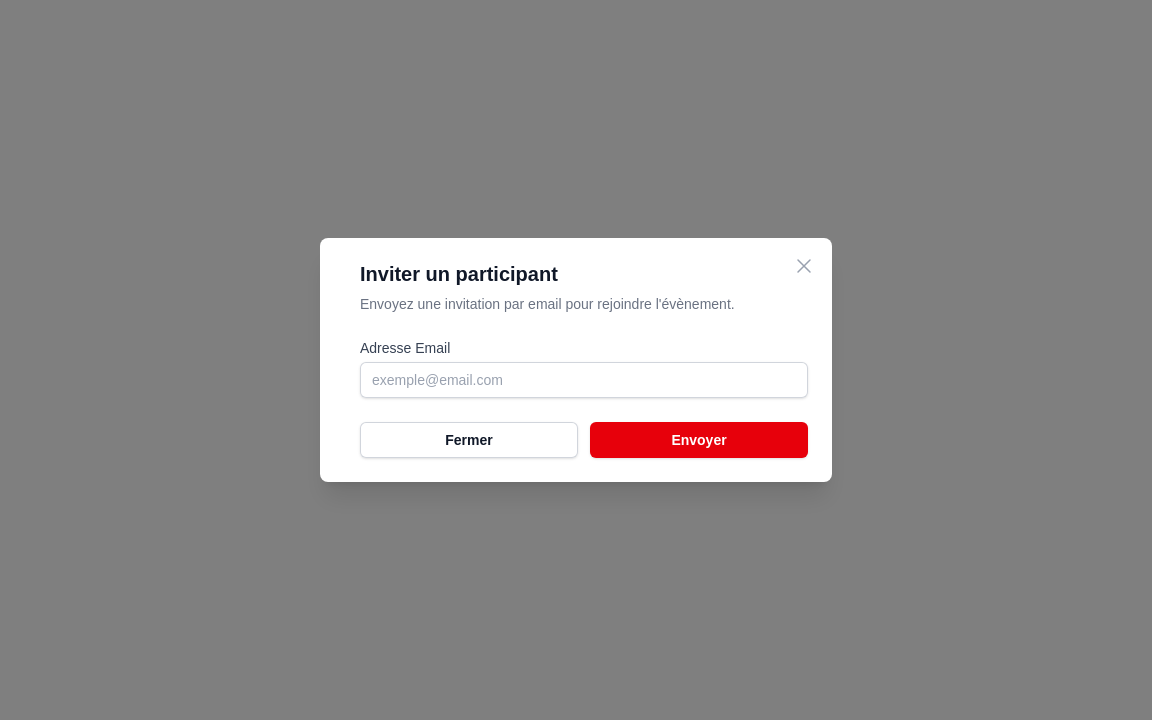
Test: InviteDialog › shows API error message when invite request fails
The width and height of the screenshot is (1152, 720).
Type "bad@example.com" into the field labelled "Adresse Email" at (584, 380), box 360,362 -> 808,398
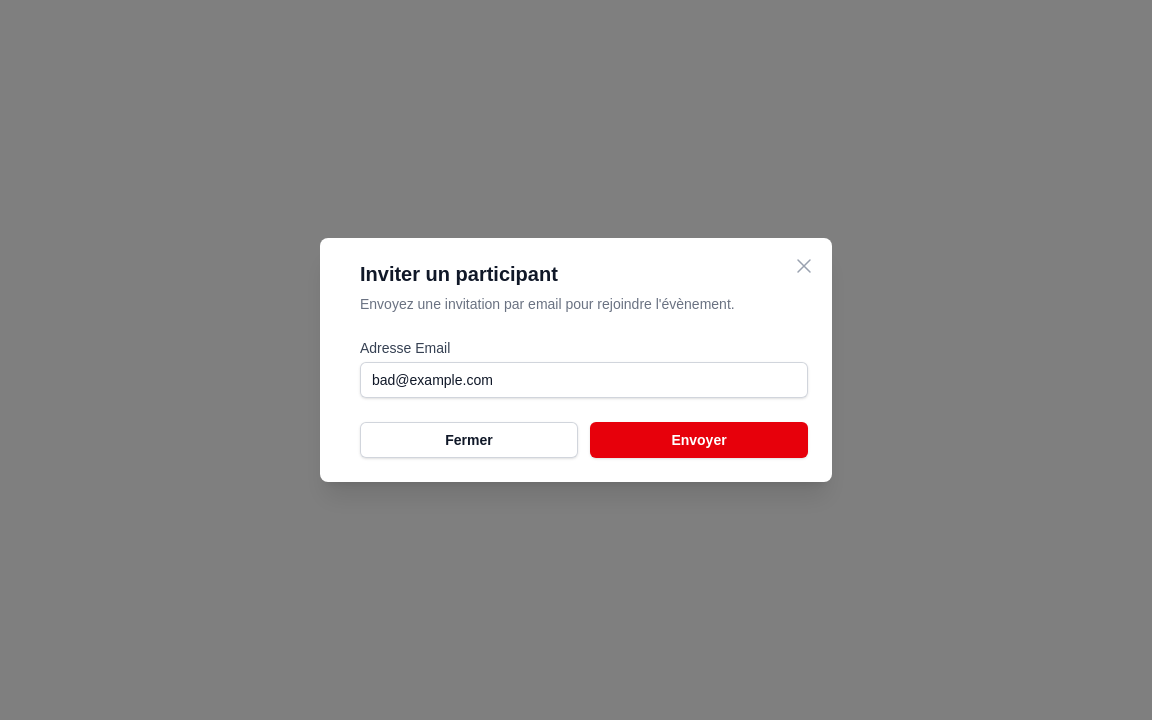
Click the button "Envoyer" at (699, 440), box 590,422 -> 808,458
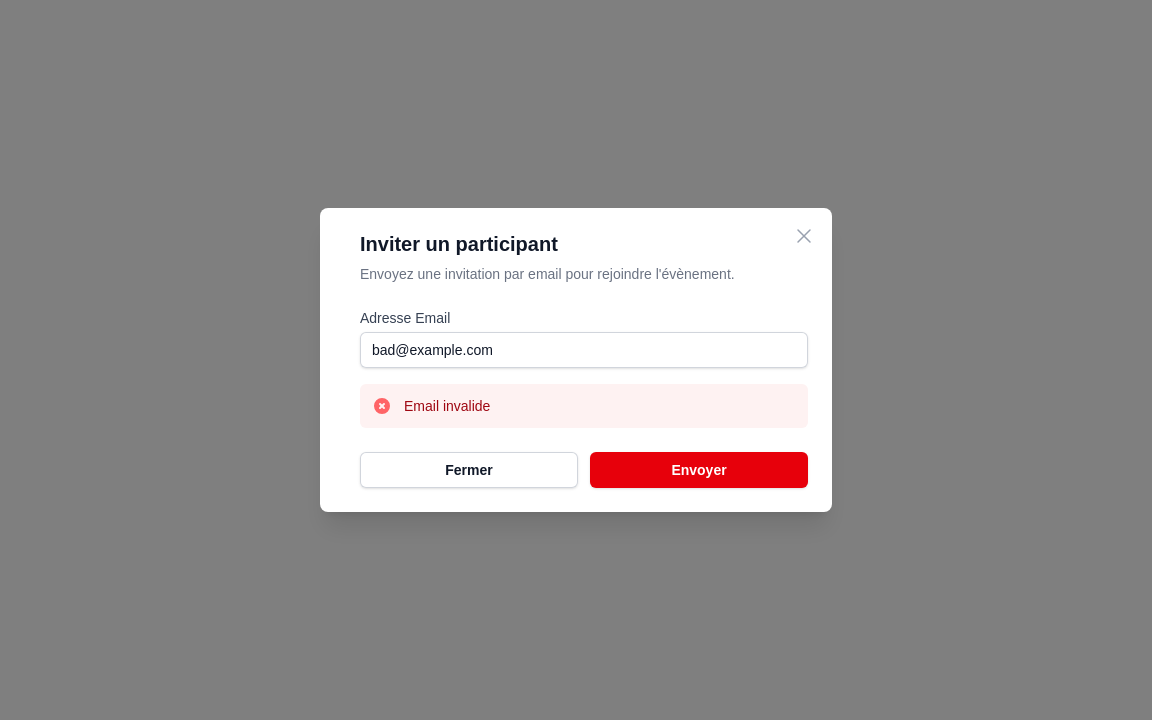
Now the text "Email invalide" is shown, box 404,396 -> 490,416
